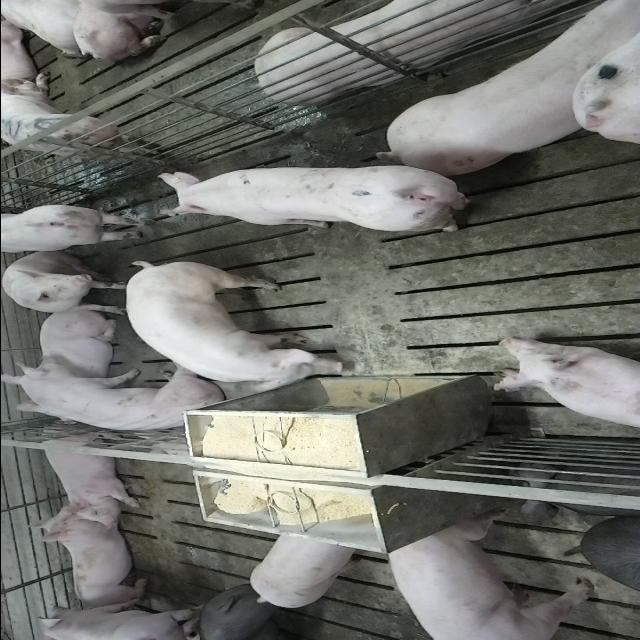Sitting: (4, 364, 230, 440), (1, 252, 127, 316)
Standing: (118, 257, 348, 391), (382, 516, 600, 639), (155, 163, 479, 233), (246, 532, 364, 610), (1, 200, 154, 252), (191, 586, 311, 640), (30, 606, 202, 640)
Sternal_lying: (249, 0, 579, 102), (490, 335, 640, 433), (35, 510, 150, 612), (30, 425, 140, 524), (24, 311, 122, 402)
